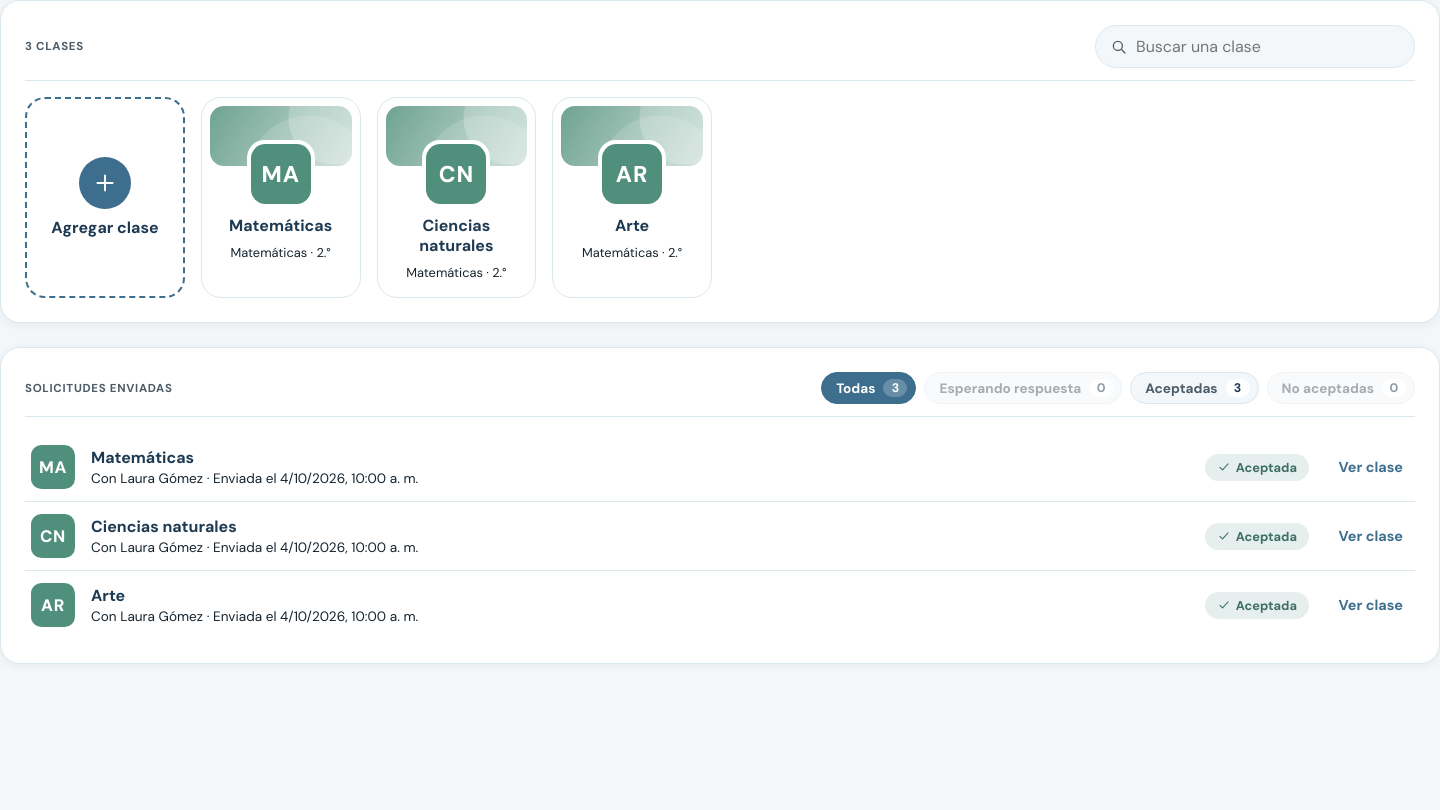
Test: SusClasesSection › filters the tiles by name while typing, with or without accents
This screenshot has width=1440, height=810.
In the search field named "Buscar una clase por su nombre": (1268, 46) x1=1136 y1=26 x2=1400 y2=67, type "matematicas"
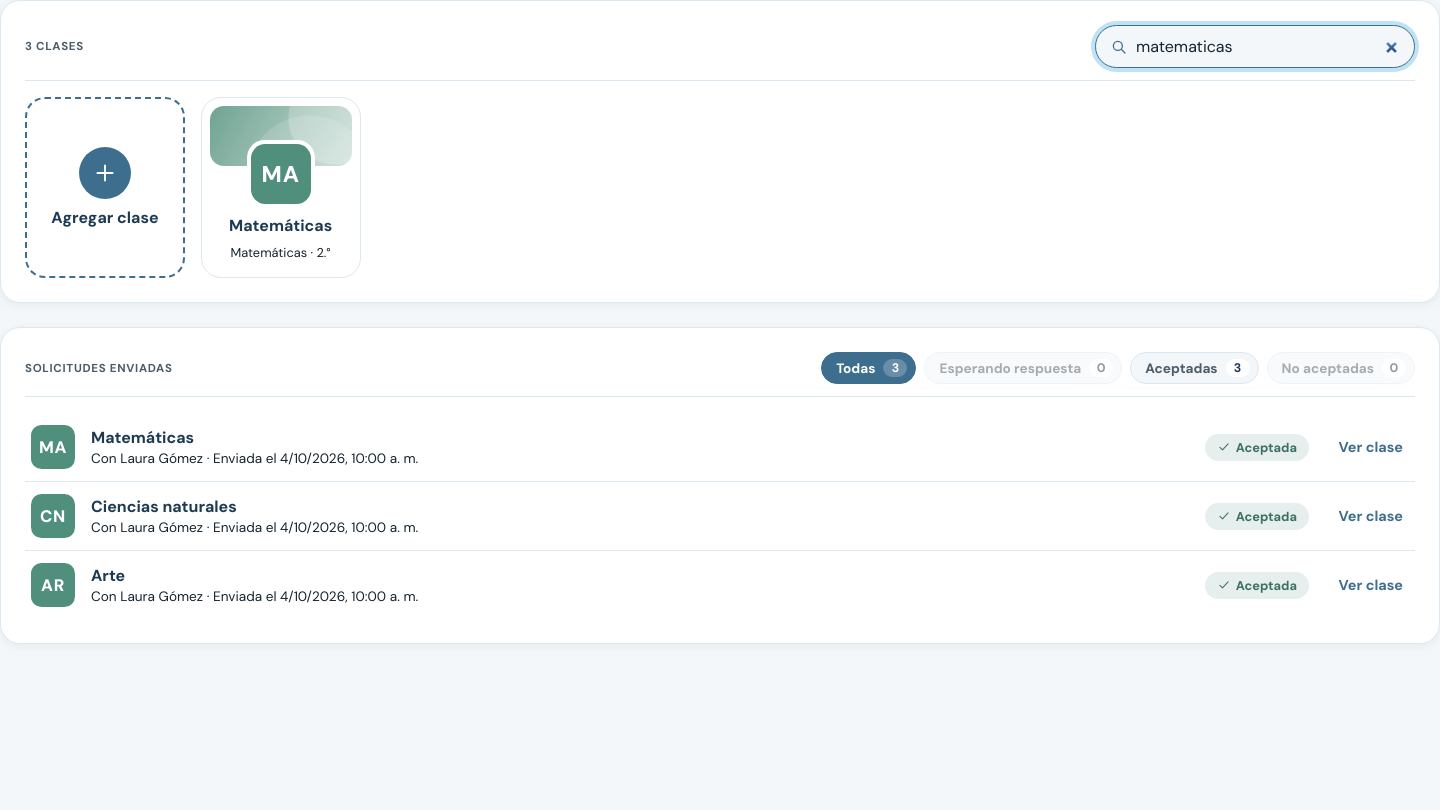
Expected: the button "MA Matemáticas Matemáticas · 2.°" is shown, x1=201 y1=97 x2=361 y2=278
Expected: the button "Agregar clase" is shown, x1=25 y1=97 x2=185 y2=278
In the search field named "Buscar una clase por su nombre": (1268, 46) x1=1136 y1=26 x2=1400 y2=67, type "zzz"
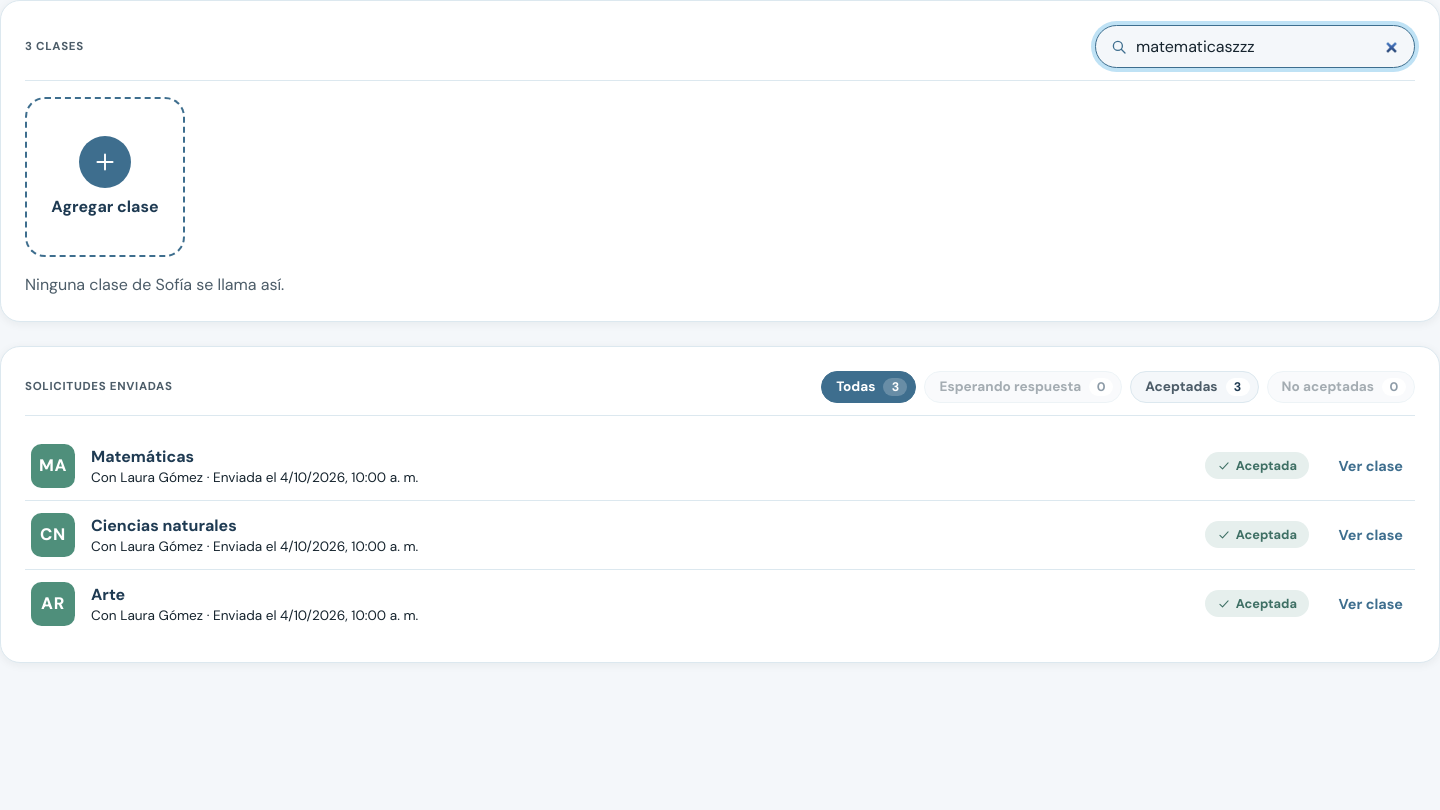
Expected: the text "Ninguna clase de Sofía se llama así." is shown, x1=25 y1=274 x2=284 y2=295
